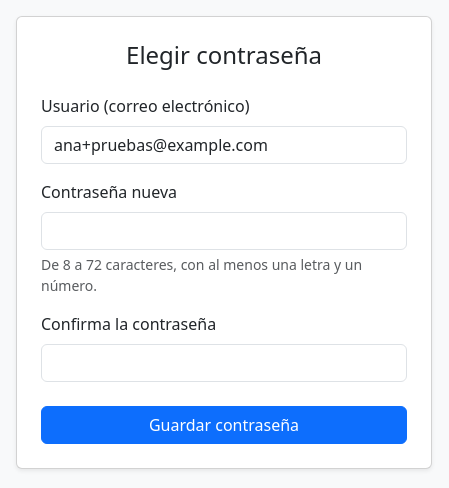
Test: ResetPasswordComponent › si el enlace venció (422 en token), ofrece pedir otro
The width and height of the screenshot is (449, 488).
Type "Puerto-2026" into the password field labelled "Contraseña nueva". click: {"x": 224, "y": 231}
box: [41,212,407,250]
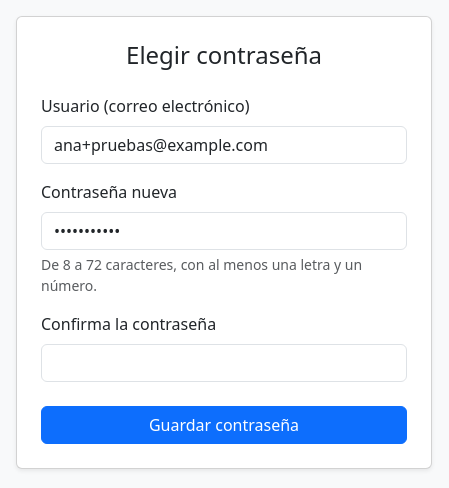
Type "Puerto-2026" into the password field labelled "Confirma la contraseña". click: {"x": 224, "y": 363}
box: [41,344,407,382]
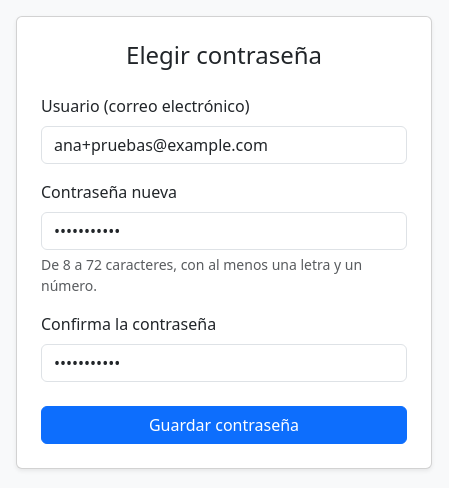
Submit the form, box [41,94,407,444]
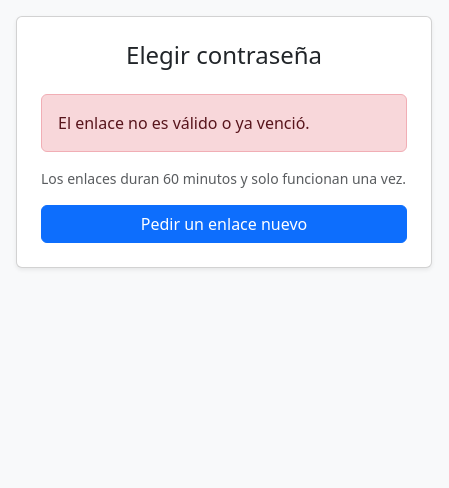
Now the message "El enlace no es válido o ya venció." is shown, box [41,94,407,152]
Now the link to "/recuperar-contrasena" is shown, box [41,205,407,243]
